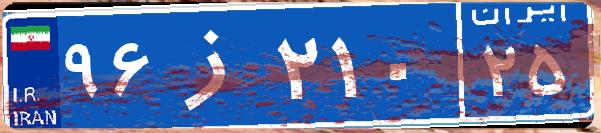0: (385, 28, 445, 110)
1: (330, 28, 385, 110)
2: (273, 28, 330, 110), (475, 38, 525, 113)
5: (525, 38, 570, 115)
6: (110, 28, 158, 105)
9: (57, 26, 110, 107)
ز: (158, 15, 273, 115)
